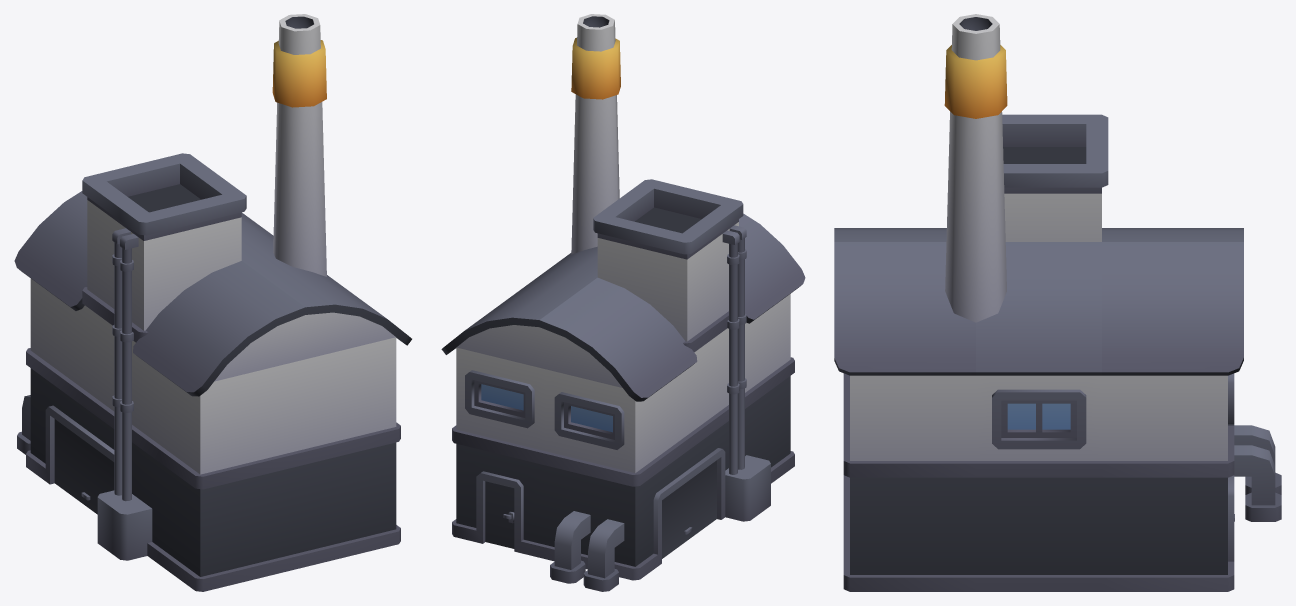
Rendered from industrial-building-n.glb.
3 renders of one model, left to right at view 1: azimuth 30°, elevation 25°; view 2: azimuth 150°, elevation 25°; view 3: azimuth 270°, elevation 25°, orthographic. The views are drawn at different scales.
Parts seen in each view (by area): view 1: building-n; view 2: building-n; view 3: building-n.
Boxes of the visible parts, box(x1,y1,x2,y2) form: building-n: box(14, 14, 411, 591); building-n: box(441, 14, 805, 591); building-n: box(834, 14, 1281, 591).
Size of the model in its own units: 0.9766 by 1.9 by 1.42.
